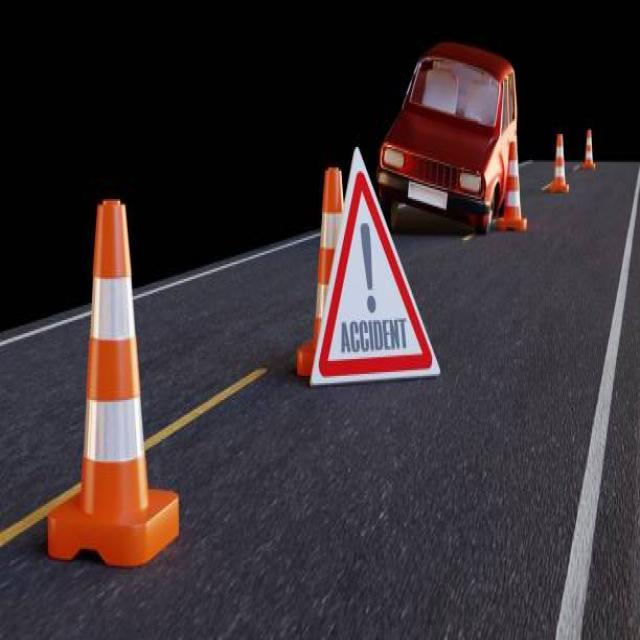Traffic Cone: (35, 165, 196, 602), (494, 132, 534, 244), (546, 121, 572, 205), (578, 114, 602, 182)
